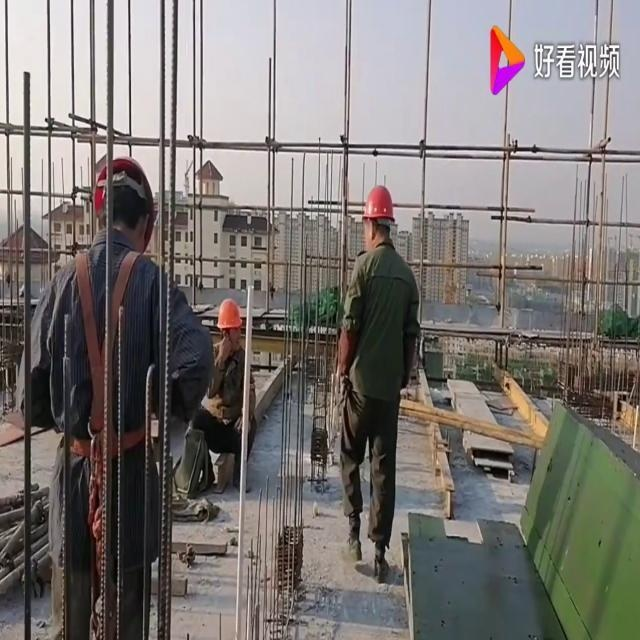Arnes_seguridad: (58, 243, 158, 472)
